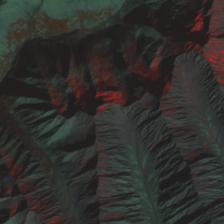landslides: (145, 160, 156, 181), (146, 172, 161, 187), (149, 180, 163, 195), (131, 209, 154, 218)
